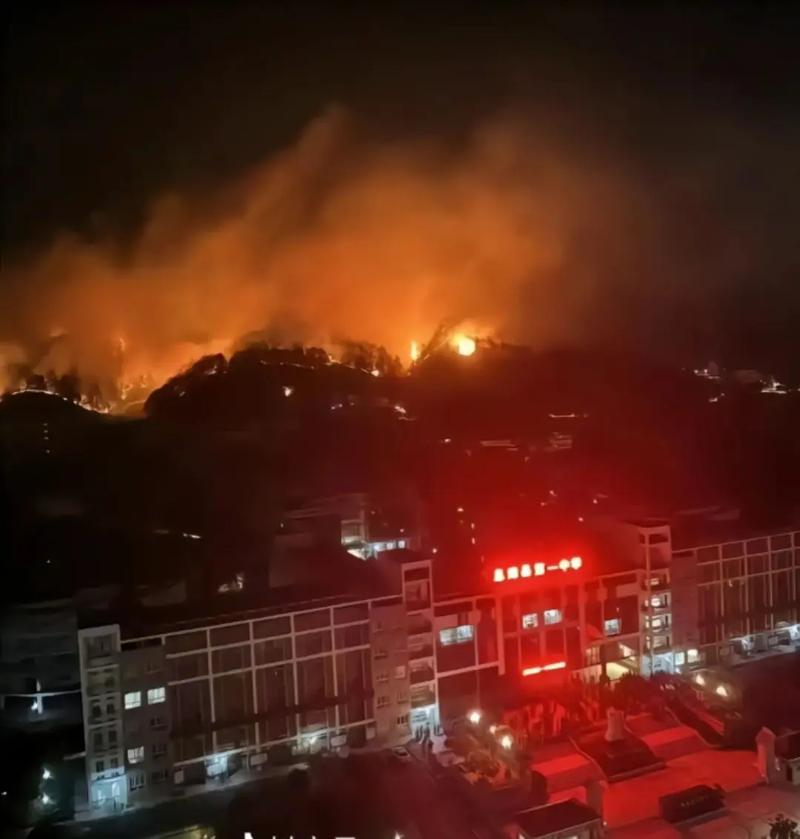fire: (8, 88, 617, 421)
